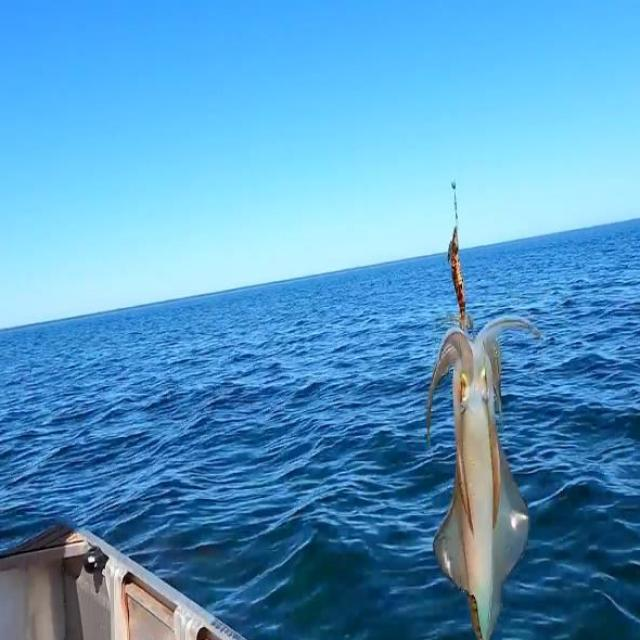SQUID: (416, 264, 554, 640)
